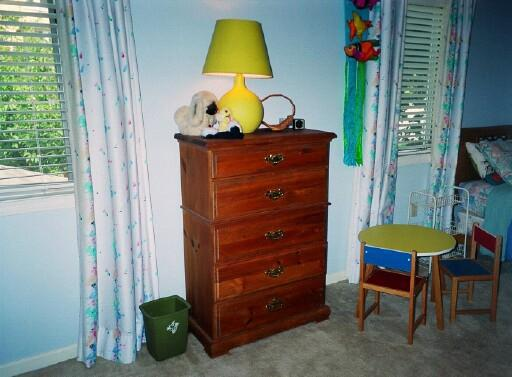Armario: (185, 136, 326, 346)
Bote de Basura: (135, 294, 194, 365)
Cama: (462, 136, 511, 233)
Ventana: (2, 4, 111, 202), (385, 7, 458, 161)
